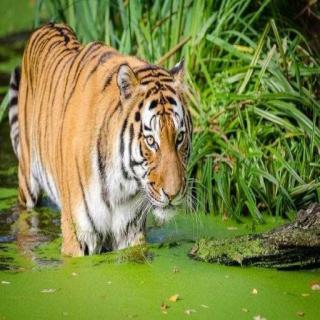Tiger: (7, 20, 196, 260)
